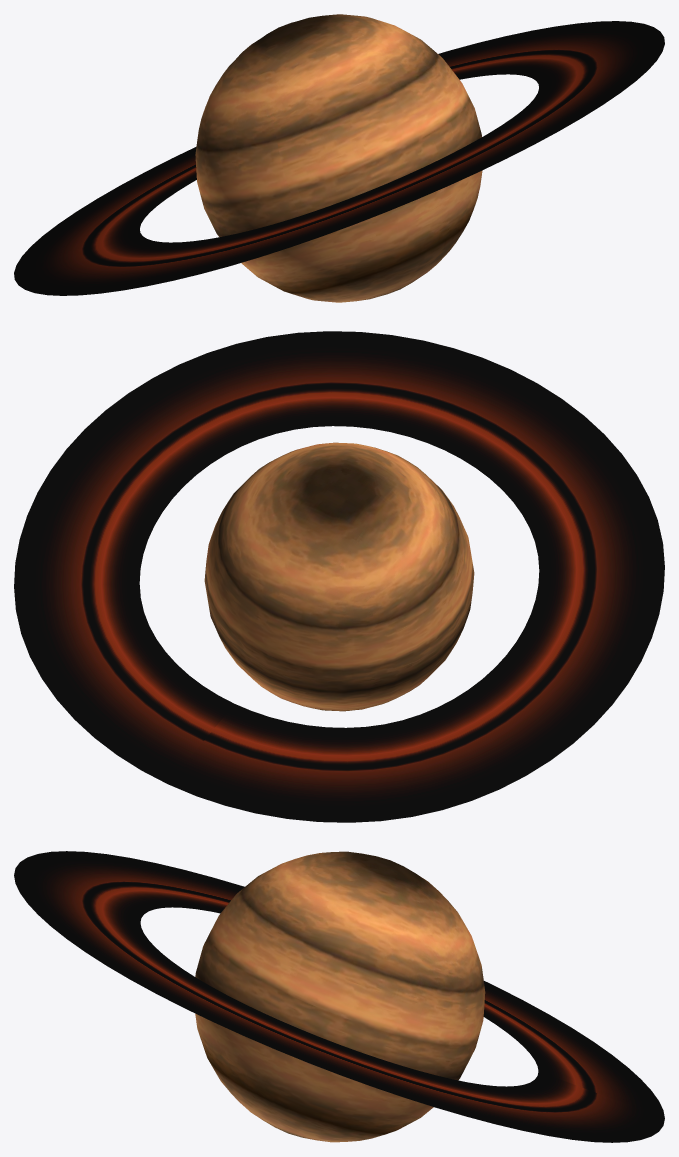
File: planet-transformed.glb
The picture shows the model from 3 angles, top to bottom: view 1: azimuth 30°, elevation 25°; view 2: azimuth 150°, elevation 25°; view 3: azimuth 270°, elevation 25°; orthographic projection. The views are drawn at different scales.
Visible parts, largest first — view 1: Cube_m_planet_0, Plane_m_ring_0; view 2: Plane_m_ring_0, Cube_m_planet_0; view 3: Cube_m_planet_0, Plane_m_ring_0.
Part boxes in pixels (x1=…): Cube_m_planet_0: x1=195, y1=14, x2=482, y2=302; Plane_m_ring_0: x1=14, y1=21, x2=664, y2=295; Plane_m_ring_0: x1=14, y1=331, x2=664, y2=822; Cube_m_planet_0: x1=204, y1=442, x2=474, y2=711; Cube_m_planet_0: x1=195, y1=851, x2=485, y2=1142; Plane_m_ring_0: x1=14, y1=851, x2=664, y2=1142.
Size of the model in its own units: 17.37 by 7.39 by 16.54.
2 materials, 2 textured.
